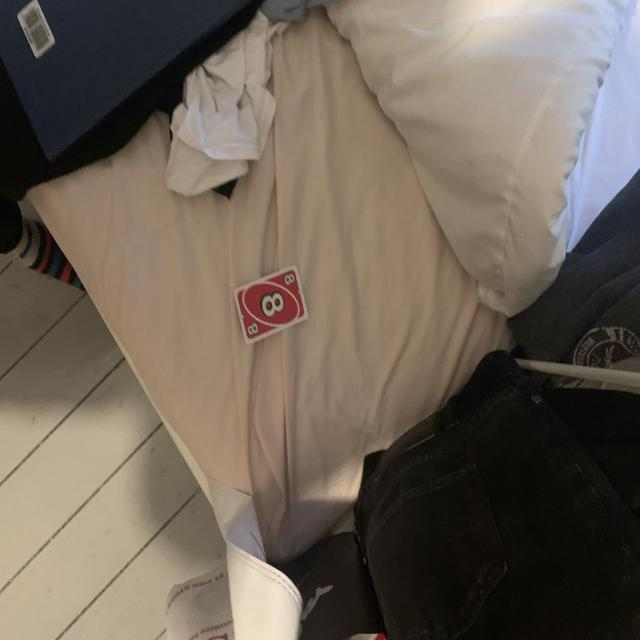lred-8: (282, 272, 296, 288)
